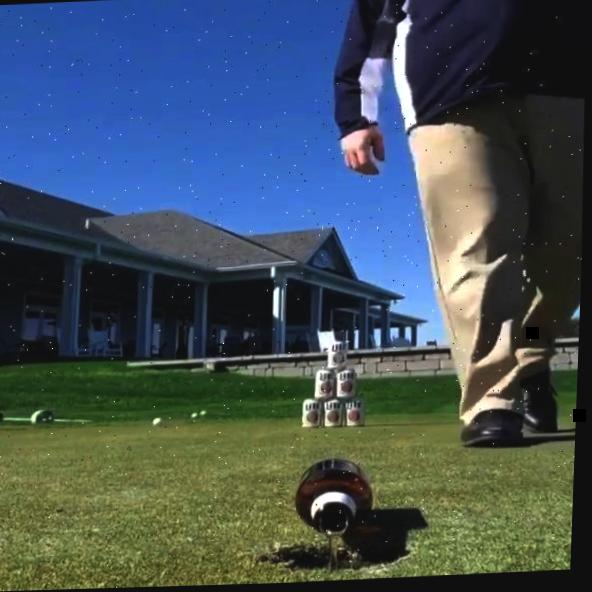GolfBall: (155, 418, 167, 427), (195, 415, 201, 422), (205, 412, 211, 417)
